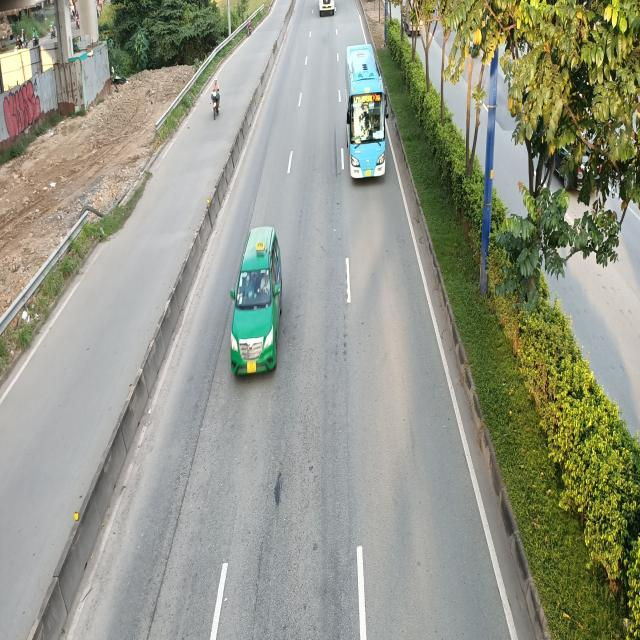car: (232, 226, 285, 374)
coach: (344, 45, 390, 184)
